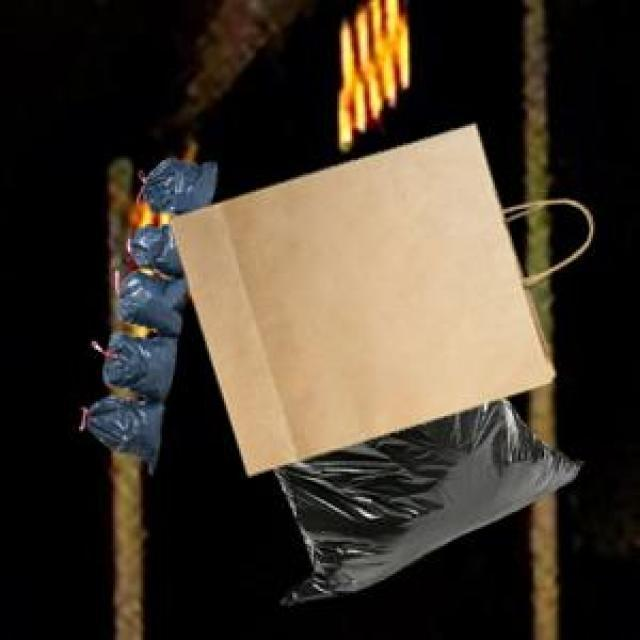miscellaneous trash: (269, 393, 578, 600), (81, 156, 213, 469)
paper: (166, 120, 589, 472)
